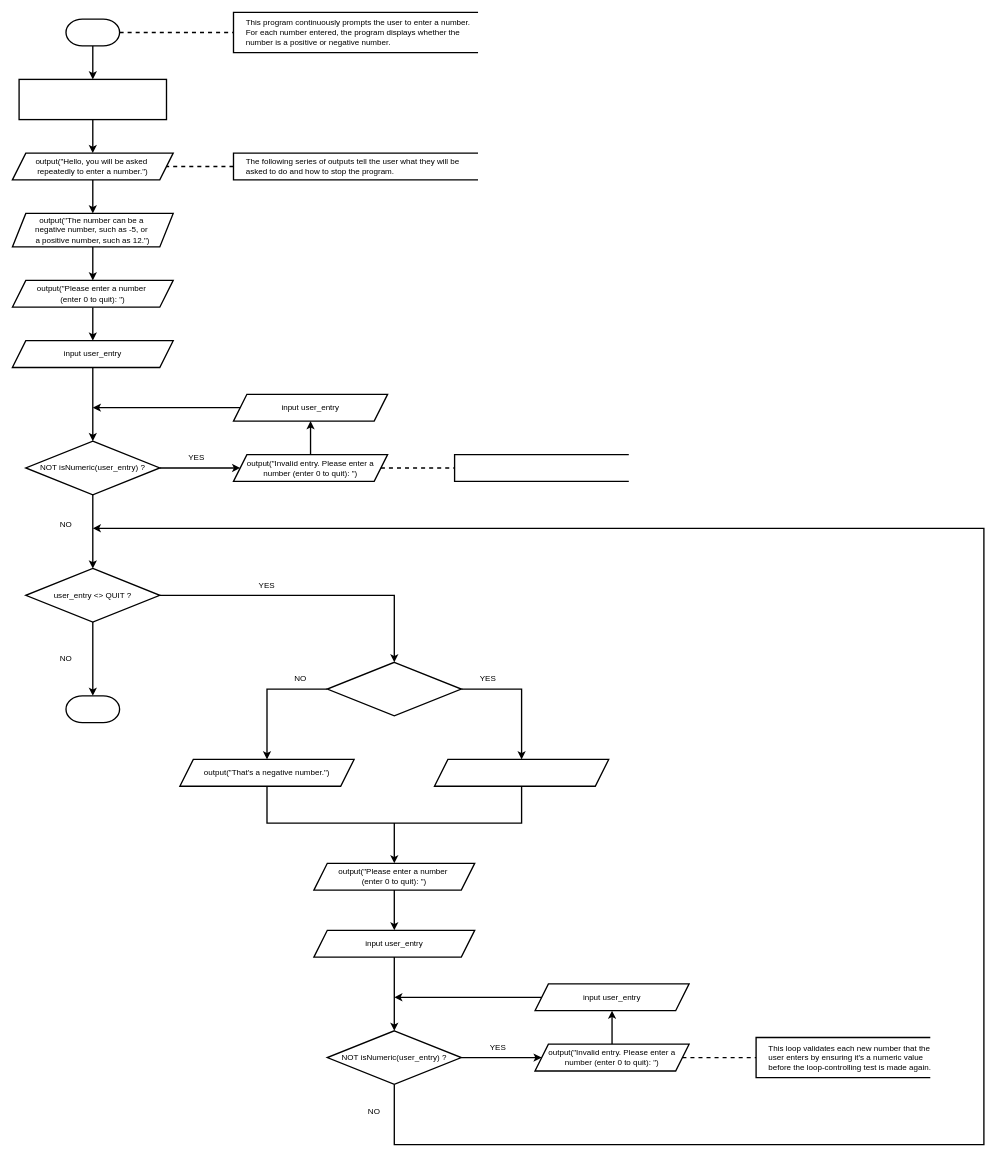
Some shapes in this 1001 by 1162 pixel diagram are drawn without their labels. The centre of each missing label's shape, as x and y in pixels:
Declaration num user_entry num QUIT = 0: pixel 92 99
output("That's a positive number."): pixel 521 772
start: pixel 92 32
stop: pixel 92 709
This loop validates the user's first entry by ensuring it's a numeric value.: pixel 541 468
user_entry > 0 ?: pixel 394 688
